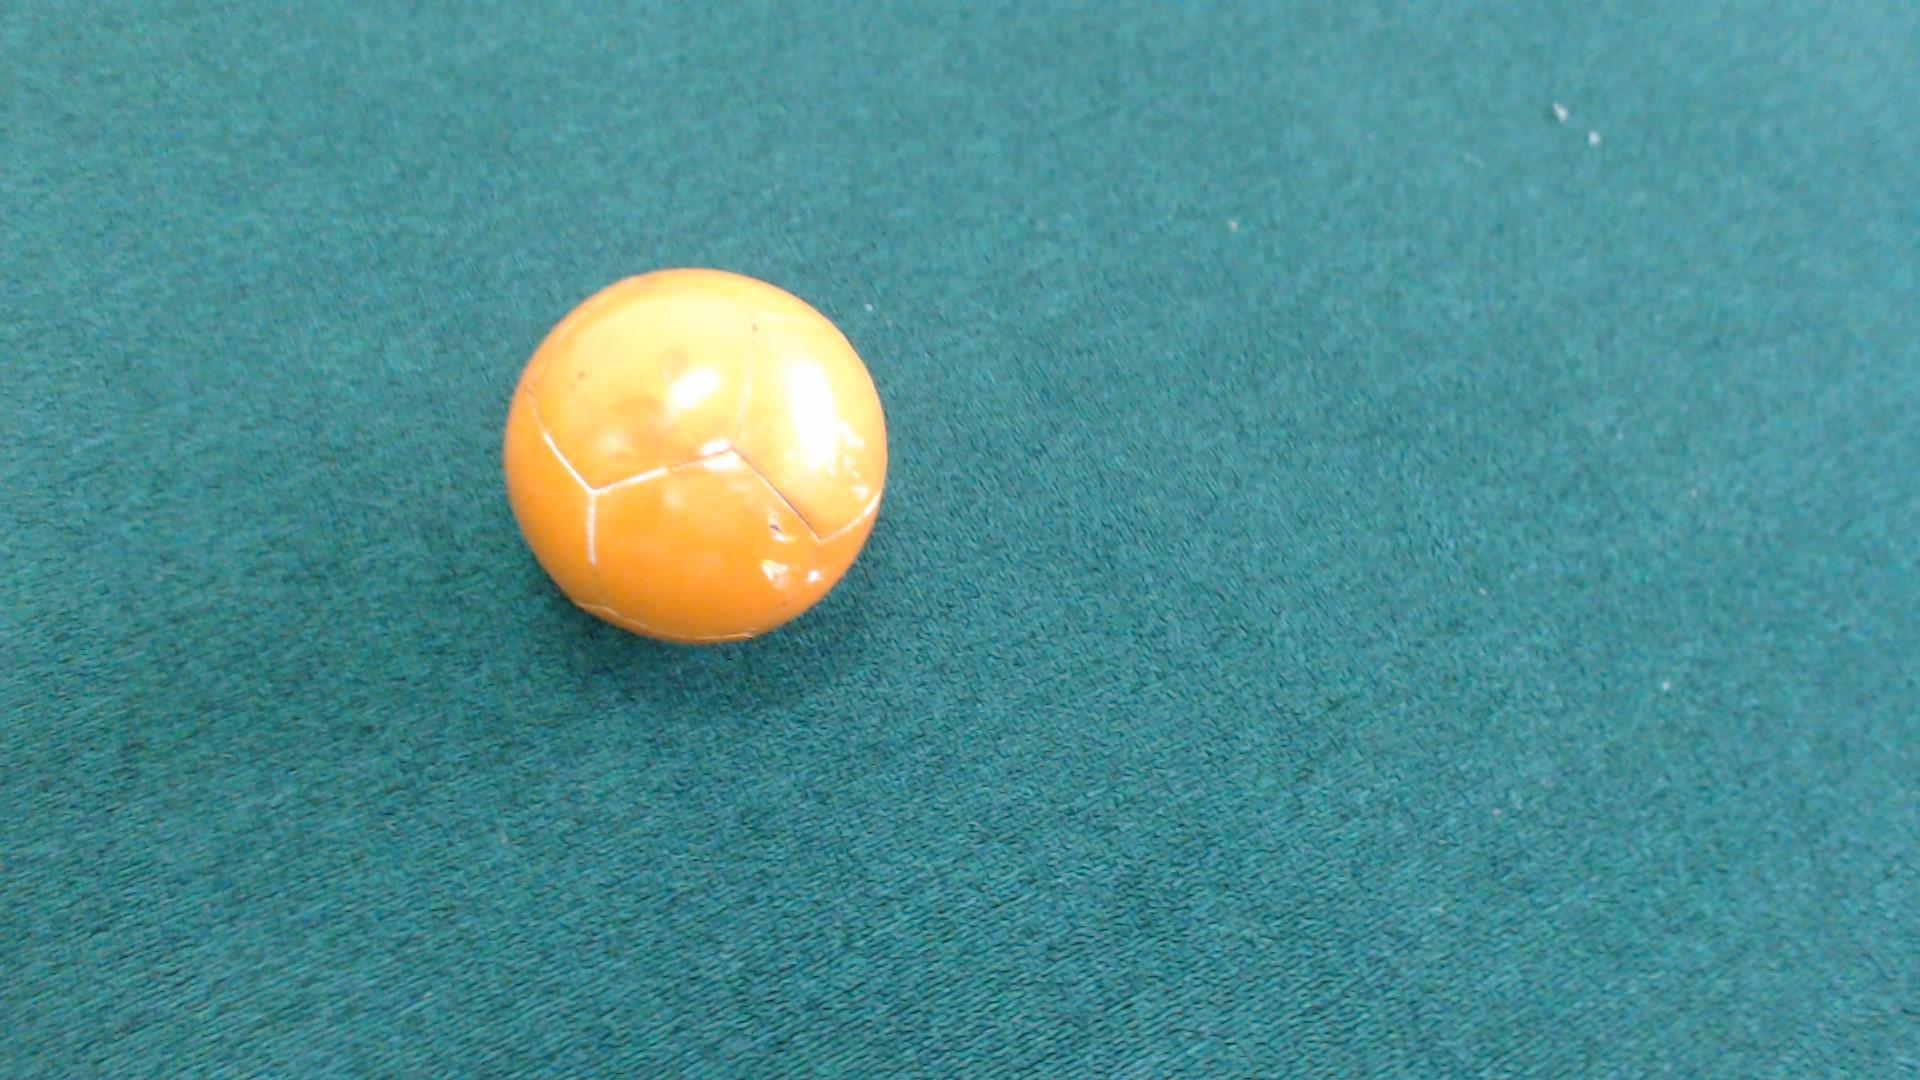bola: (456, 220, 919, 684)
